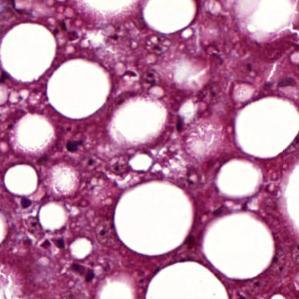steatosis: (115, 176, 195, 253), (200, 206, 275, 278), (45, 60, 119, 118)
